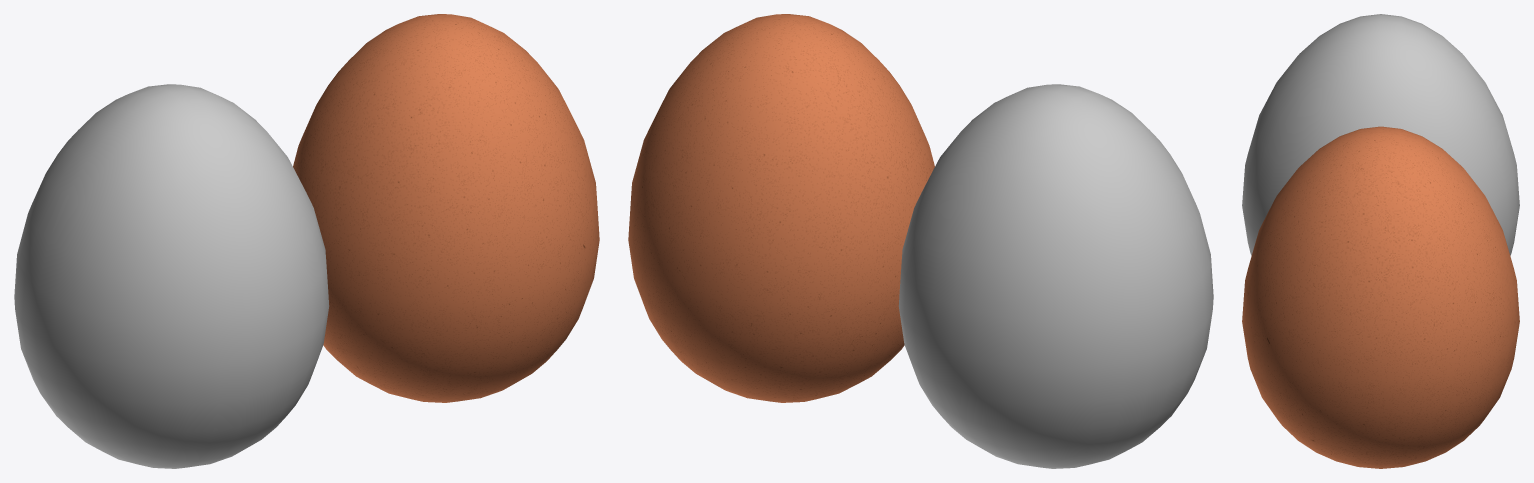
Rendered from eggs.glb.
3 renders of one model, left to right at view 1: azimuth 30°, elevation 25°; view 2: azimuth 150°, elevation 25°; view 3: azimuth 270°, elevation 25°, orthographic. The views are drawn at different scales.
Visible parts, largest first — view 1: Object_2, Object_3; view 2: Object_2, Object_3; view 3: Object_3, Object_2.
Part boxes in pixels (x1,y1,x2,y2): Object_2: [14, 84, 329, 468]; Object_3: [293, 14, 599, 402]; Object_2: [898, 84, 1213, 468]; Object_3: [628, 14, 934, 402]; Object_3: [1242, 126, 1519, 468]; Object_2: [1242, 14, 1519, 255].
Bounding box in the file's own units: 4.5 × 2.9 × 2.26.
2 materials, 1 textured.
